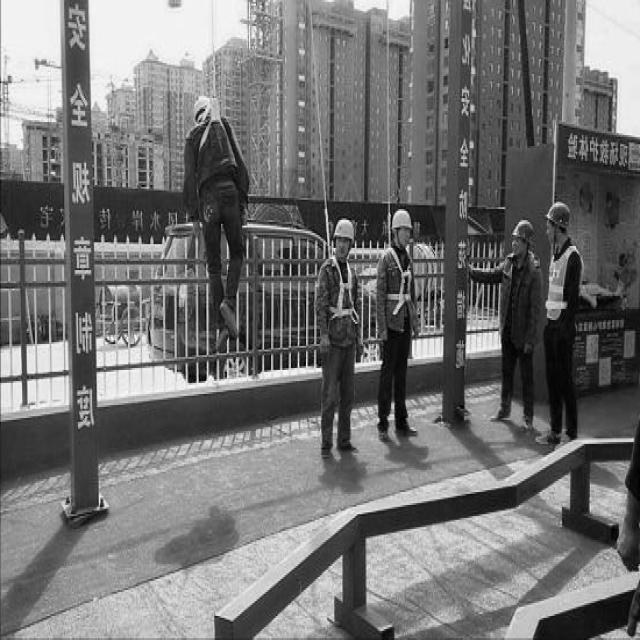face_nomask: (394, 226, 411, 250), (541, 220, 559, 242), (335, 233, 350, 259), (507, 235, 526, 253)
hand_glove: (316, 333, 334, 362), (188, 215, 205, 242), (354, 329, 365, 359), (241, 205, 249, 226)
head_helmet: (544, 200, 572, 229), (391, 205, 414, 235), (330, 217, 358, 240), (191, 93, 212, 120), (509, 218, 534, 240)
person: (185, 89, 243, 342), (314, 214, 368, 458), (370, 200, 426, 434), (534, 200, 587, 446), (492, 218, 540, 424)
shoes: (532, 426, 563, 450), (490, 402, 512, 427), (334, 436, 360, 456), (395, 417, 418, 439)
vest: (543, 242, 582, 320)
